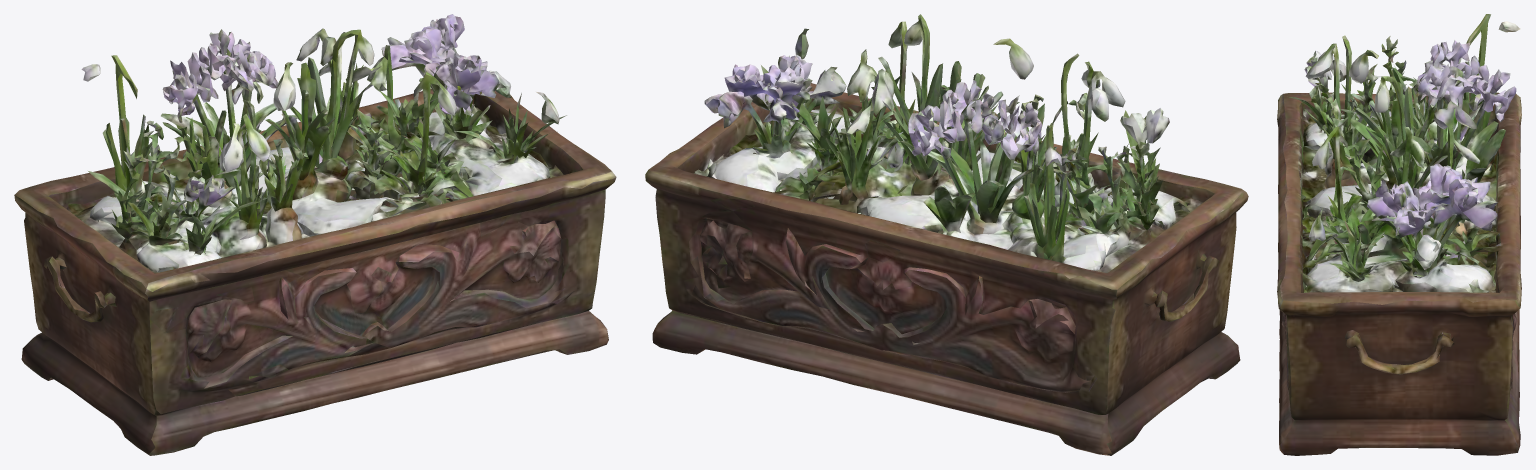
The model's file is snowdrop.glb.
3 views of the same model, side by side, from view 1: azimuth 30°, elevation 25°; view 2: azimuth 150°, elevation 25°; view 3: azimuth 270°, elevation 25° (orthographic). The views are drawn at different scales.
Visible parts, largest first — view 1: geometry_0; view 2: geometry_0; view 3: geometry_0.
Boxes of the visible parts, <box> form: geometry_0: <box>14,14,616,455</box>; geometry_0: <box>645,14,1248,455</box>; geometry_0: <box>1277,14,1521,455</box>.
Bounding box in the file's own units: 0.6 × 0.3809 × 0.2865.
1 material, 1 textured.
